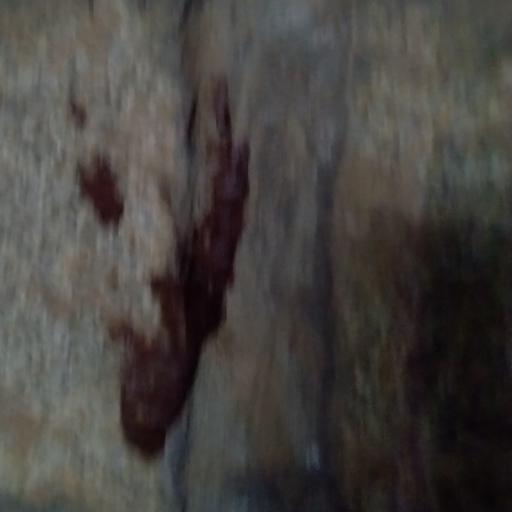stain: (64, 28, 283, 465)
